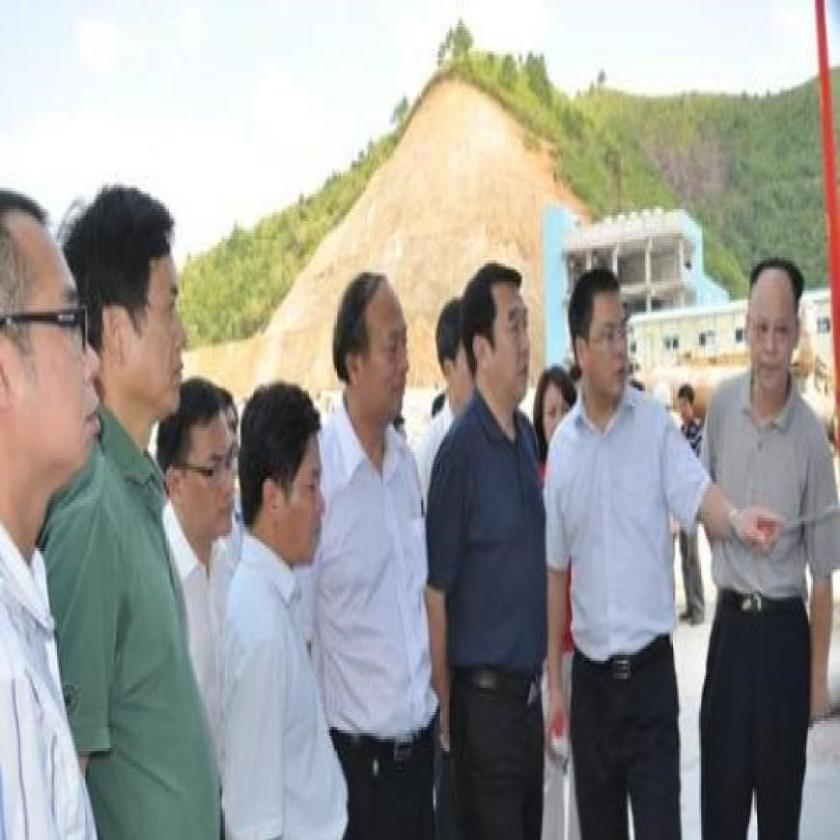Sin_casco: (0, 182, 105, 497), (68, 182, 191, 438), (238, 381, 333, 580), (160, 370, 242, 561), (330, 270, 409, 444), (463, 251, 532, 420), (561, 268, 636, 402), (742, 253, 805, 410), (431, 289, 486, 424), (533, 360, 580, 464), (678, 381, 698, 424)
